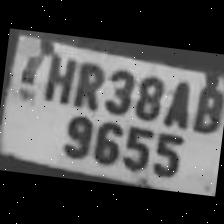3: (98, 60, 136, 116)
5: (148, 126, 188, 180), (116, 120, 154, 172)
6: (88, 116, 123, 167)
8: (128, 68, 165, 122)
9: (55, 108, 93, 160)
A: (158, 72, 196, 130)
B: (188, 77, 224, 135)
H: (36, 46, 78, 106)
R: (68, 55, 106, 109)
